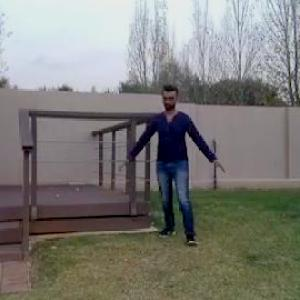land: (117, 74, 228, 264)
